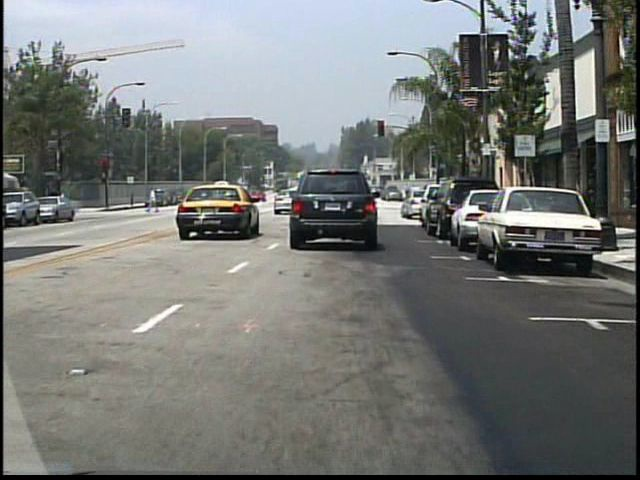person: (366, 185, 384, 216), (146, 187, 163, 216)
